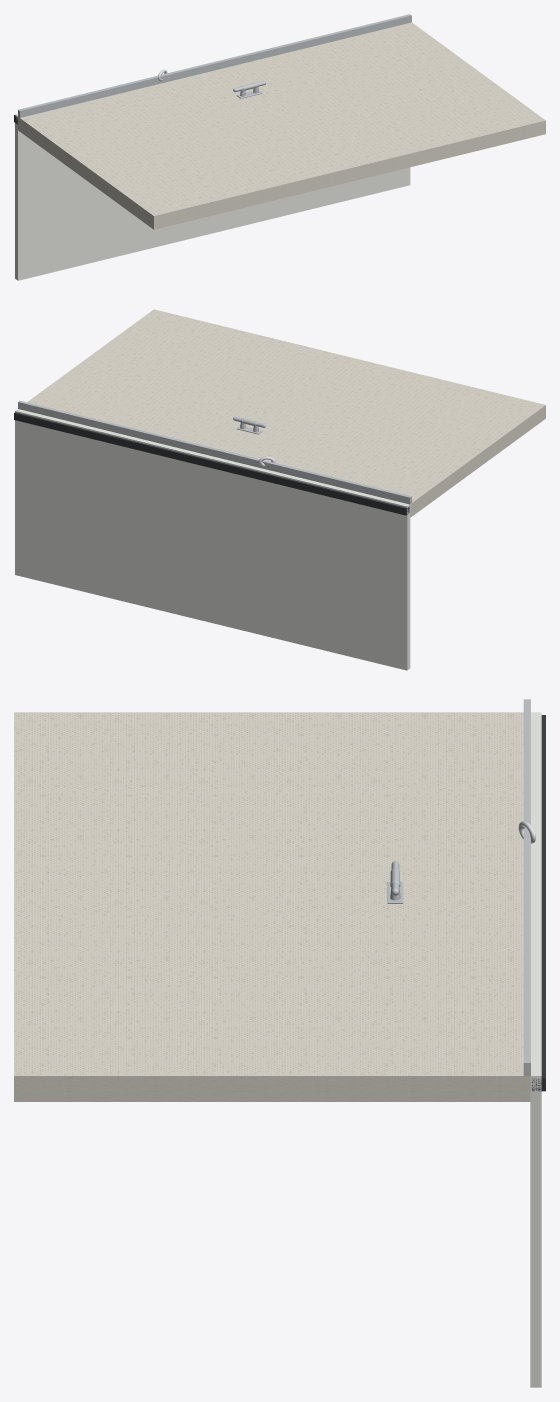
Rendered from cleat.glb.
3 views of the same model, one above another, from view 1: azimuth 30°, elevation 25°; view 2: azimuth 150°, elevation 25°; view 3: azimuth 270°, elevation 25° (orthographic). The views are drawn at different scales.
Size of what is drawn, in the model's own units: 3 by 1.29 by 1.85.
5 materials, 1 textured.
